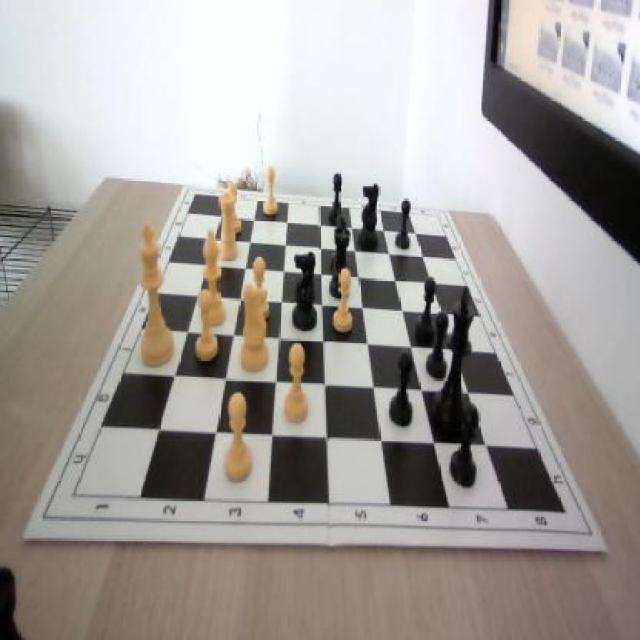black-bishop: (432, 292, 477, 437)
black-king: (291, 249, 319, 330), (358, 180, 380, 252)
black-knight: (449, 403, 478, 487), (390, 349, 416, 426), (424, 311, 448, 380), (415, 275, 437, 343), (329, 217, 350, 275), (395, 198, 411, 252), (329, 171, 345, 221)
black-queen: (328, 223, 352, 299)
black-rook: (197, 231, 227, 329)
white-bishop: (137, 220, 175, 370)
white-king: (234, 274, 273, 375)
white-knight: (221, 392, 254, 482), (282, 340, 312, 425), (192, 288, 220, 364), (246, 257, 270, 325), (332, 268, 353, 334), (262, 168, 280, 216), (225, 183, 242, 233)
white-queen: (217, 191, 240, 261)
